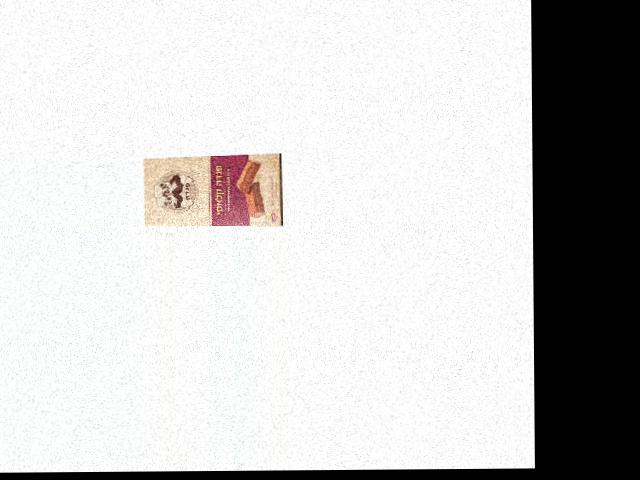chocolate: (143, 151, 283, 225)
